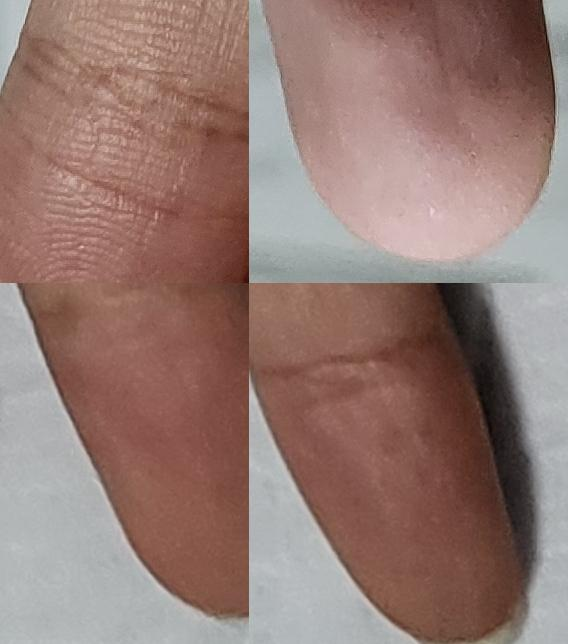Fingerprints: (250, 332, 525, 643), (261, 0, 557, 264), (32, 283, 249, 620), (0, 55, 249, 283)
